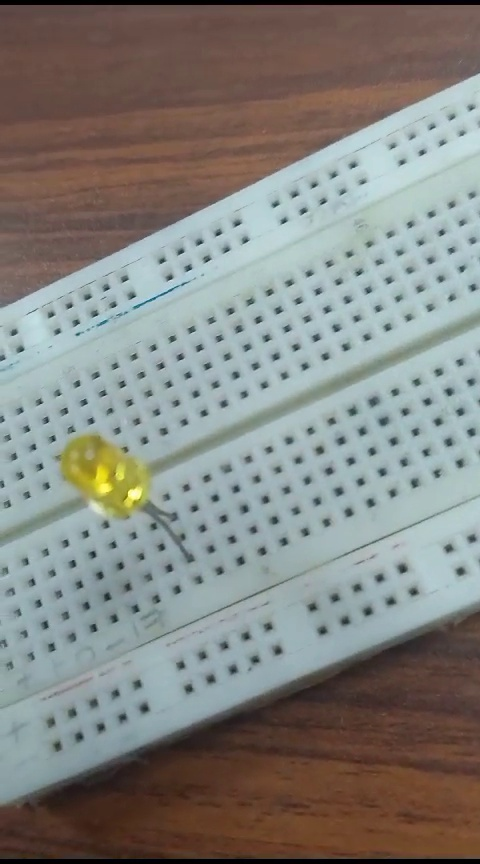LED: (34, 427, 196, 571)
